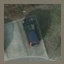car: (22, 19, 40, 46)
